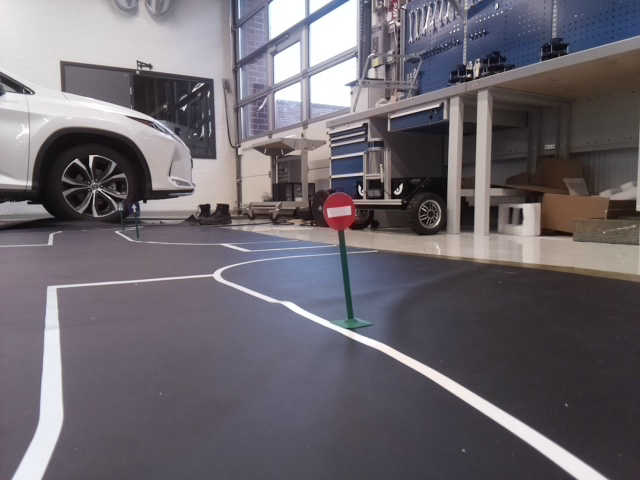NoEntry: (324, 193, 355, 229)
